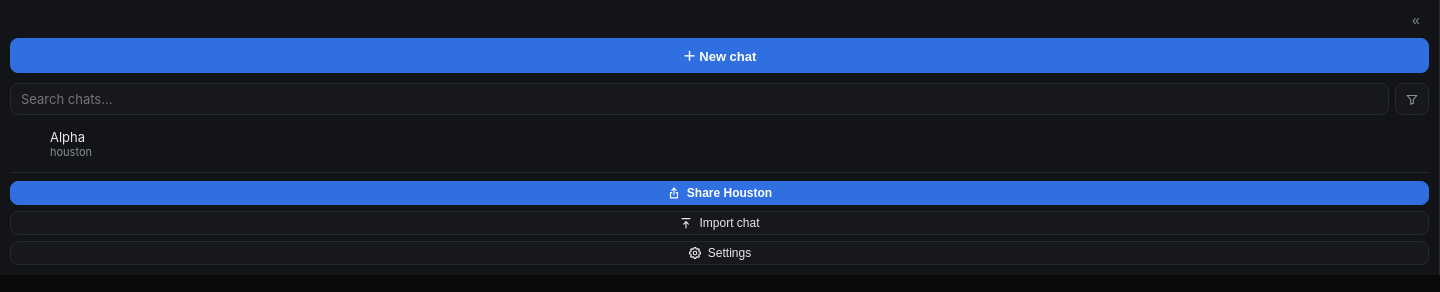
Sidebar — expanded rendering › disables Mark all as read when nothing is unread
Click the button named "Filter chats" at [1412, 99], box top-left (1395, 83), bottom-right (1429, 115)
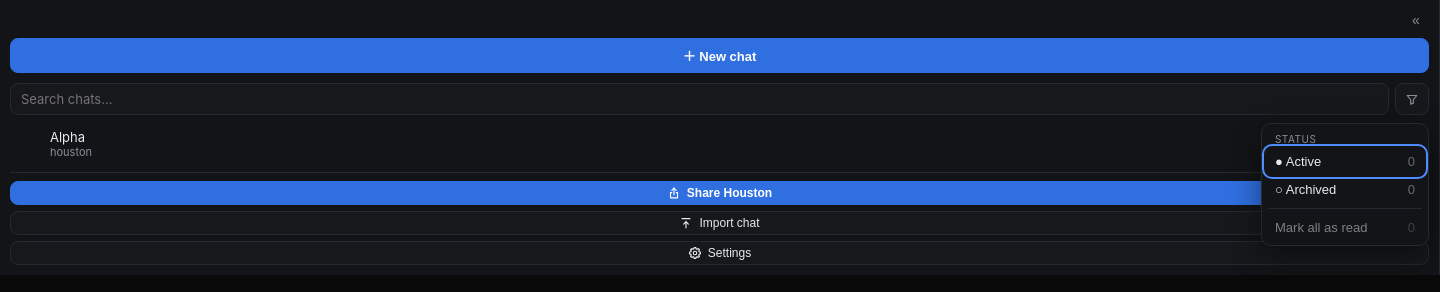
Expected: the menu item "Mark all as read 0" is disabled, top-left (1266, 214), bottom-right (1424, 241)
